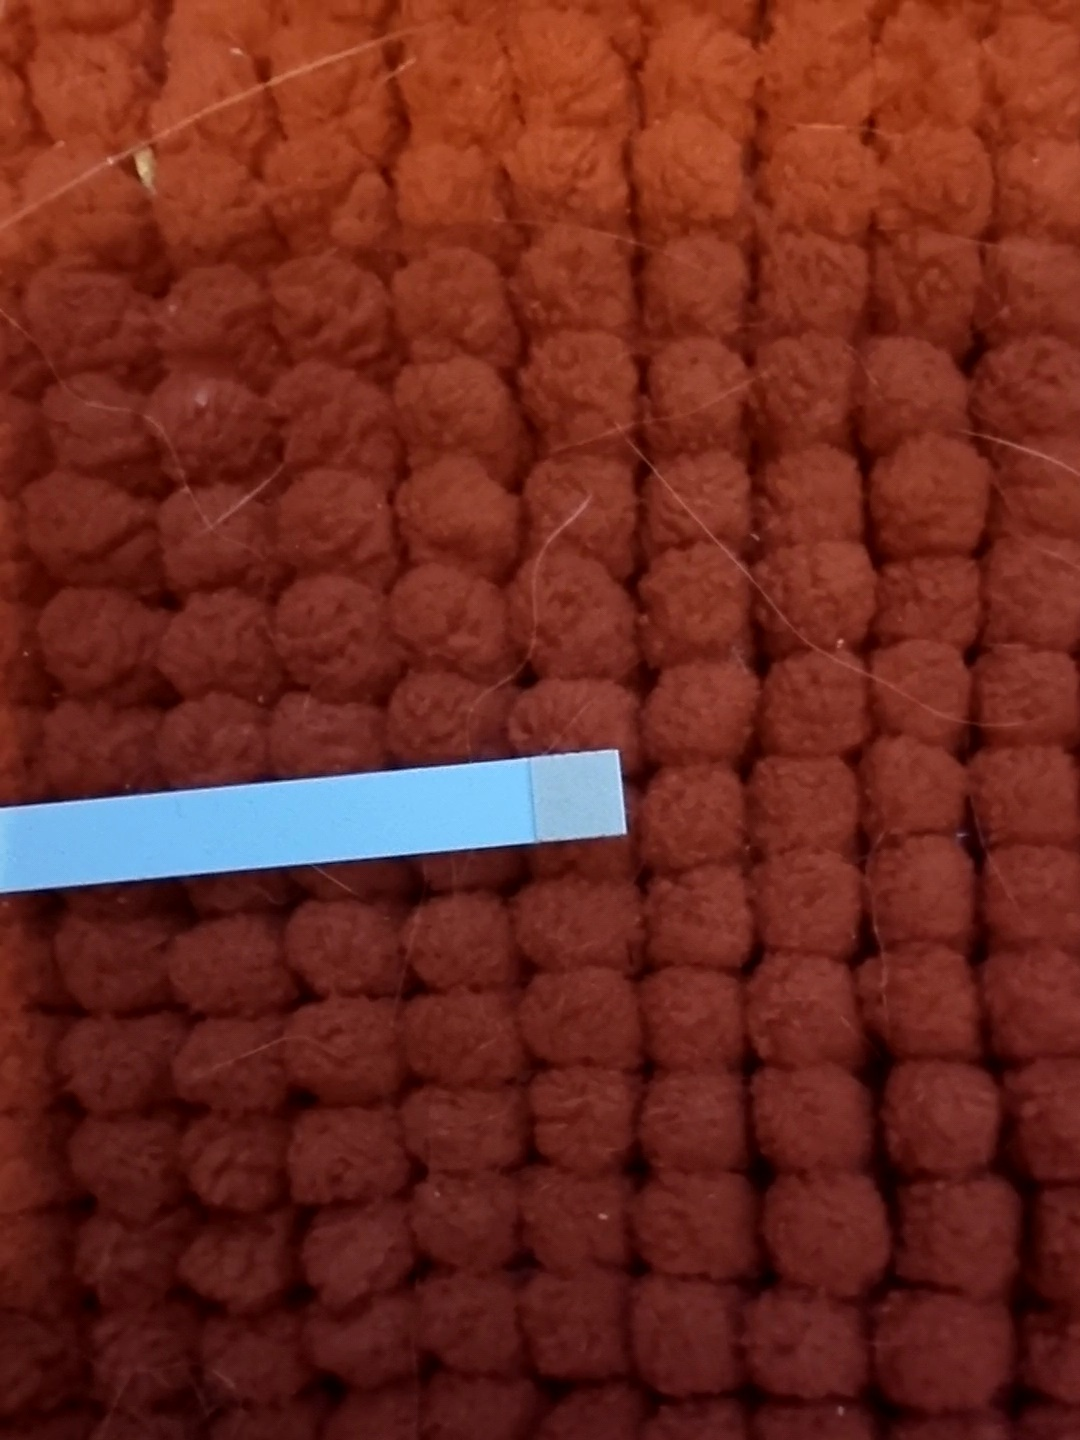keto-tip: (520, 745, 636, 848)
